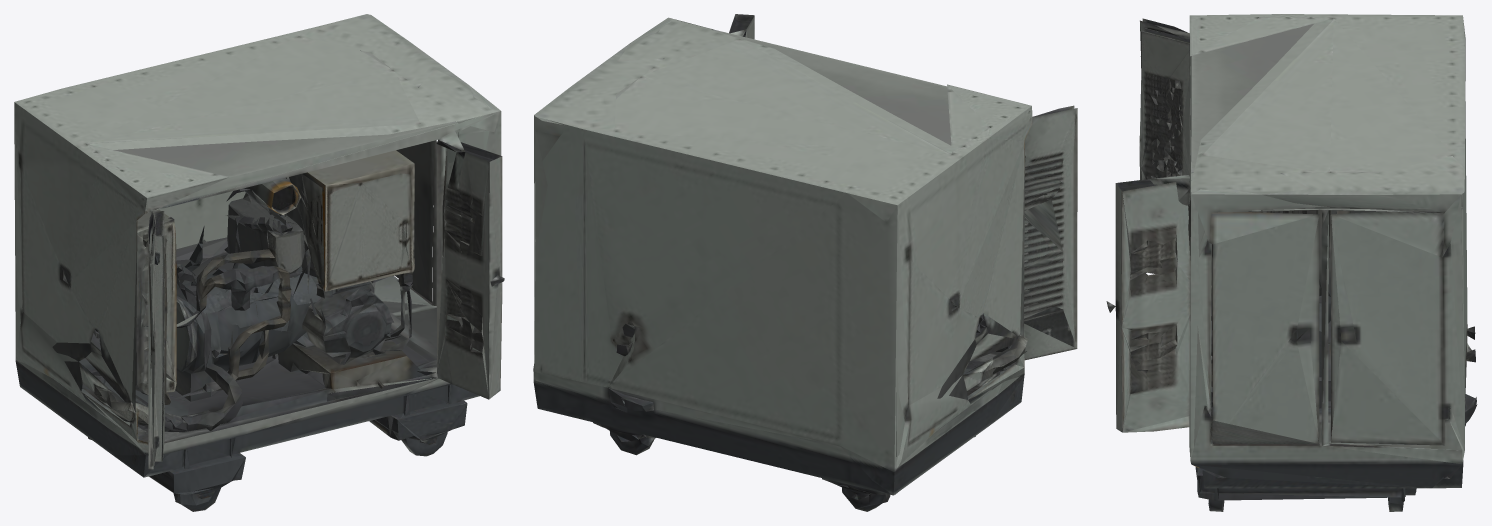
The model's file is web.glb.
3 renders of one model, left to right at view 1: azimuth 30°, elevation 25°; view 2: azimuth 150°, elevation 25°; view 3: azimuth 270°, elevation 25°, orthographic. The views are drawn at different scales.
Visible parts, largest first — view 1: output_unwrapped; view 2: output_unwrapped; view 3: output_unwrapped.
Part boxes in pixels (x1=…): output_unwrapped: x1=14, y1=14, x2=504, y2=511; output_unwrapped: x1=533, y1=14, x2=1077, y2=511; output_unwrapped: x1=1106, y1=14, x2=1477, y2=511.
Bounding box in the file's own units: 1.9 × 1.62 × 1.55.
1 material, 1 textured.
